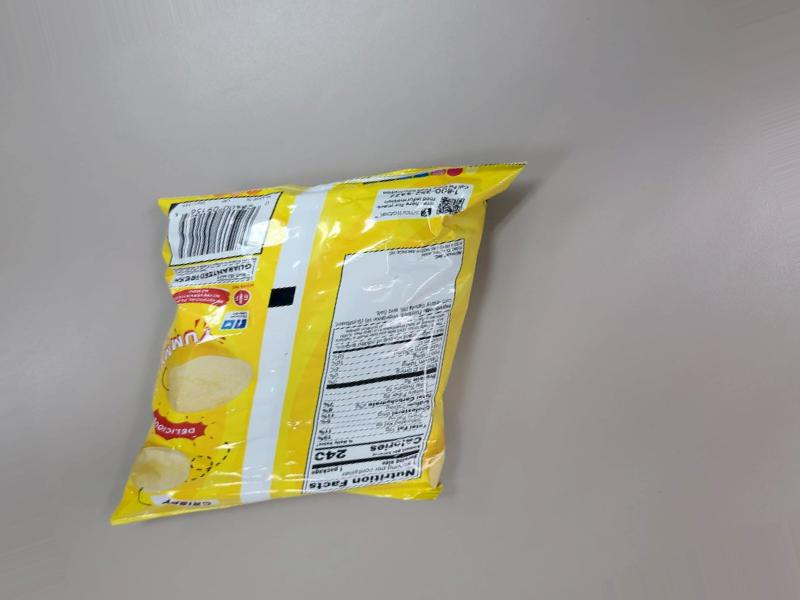lays: (125, 161, 517, 544)
